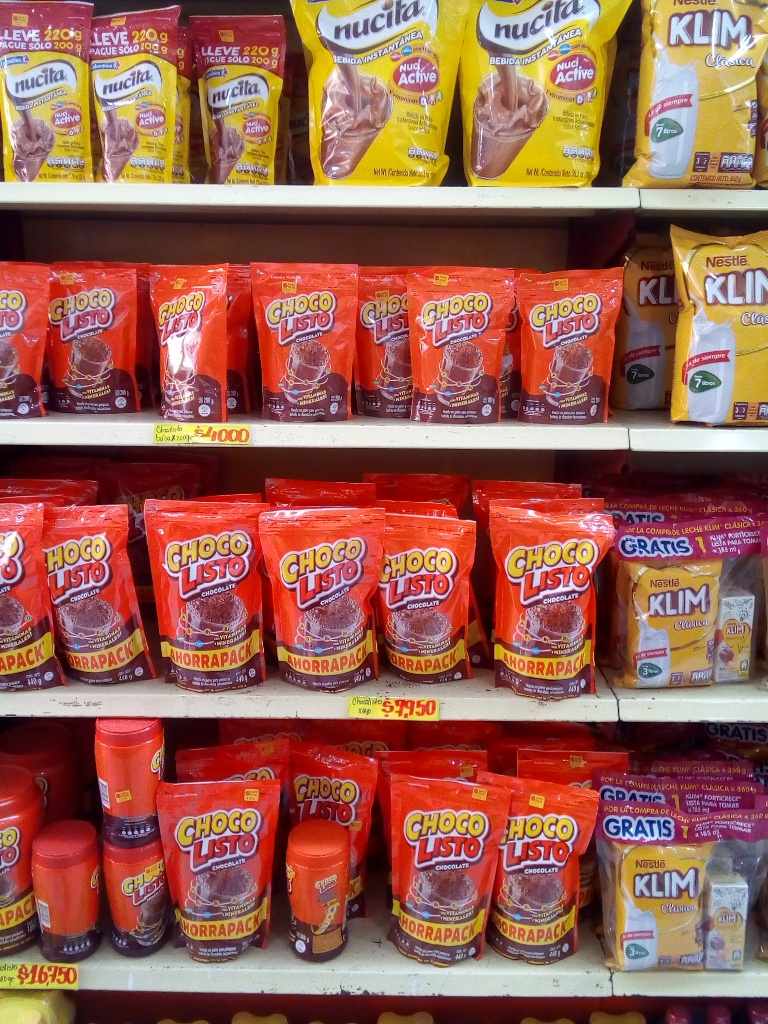COL0170103DYP44000: (484, 498, 607, 700)
COL0170103TRR00100: (1, 765, 45, 959)
